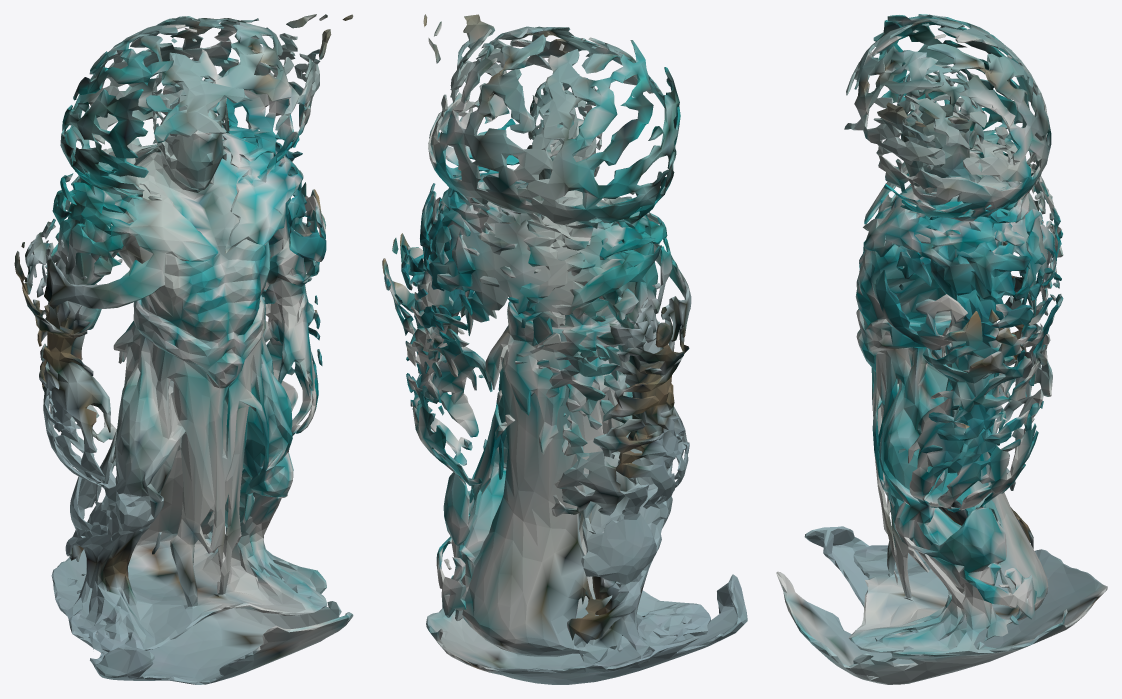
File: demonServant.glb
3 views of the same model, side by side, from view 1: azimuth 30°, elevation 25°; view 2: azimuth 150°, elevation 25°; view 3: azimuth 270°, elevation 25° (orthographic).
Visible parts, largest first — view 1: world; view 2: world; view 3: world.
Part boxes in pixels (x1=…): world: x1=14, y1=14, x2=353, y2=684; world: x1=382, y1=14, x2=747, y2=684; world: x1=776, y1=14, x2=1107, y2=684.
Size of the model in its own units: 0.491 by 1 by 0.4829.
